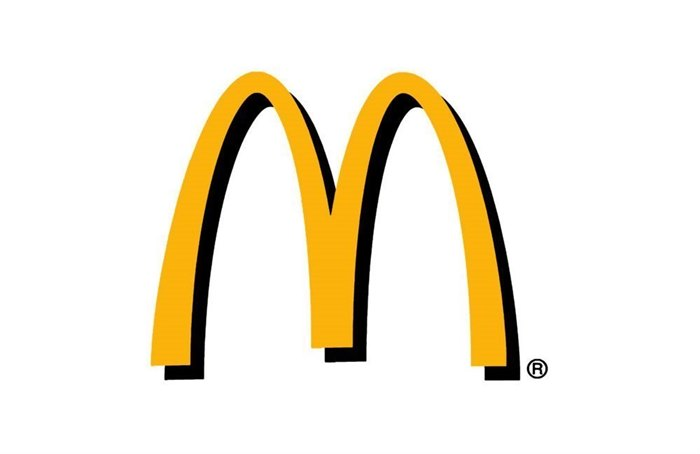mcdonalds: (153, 70, 508, 361)
